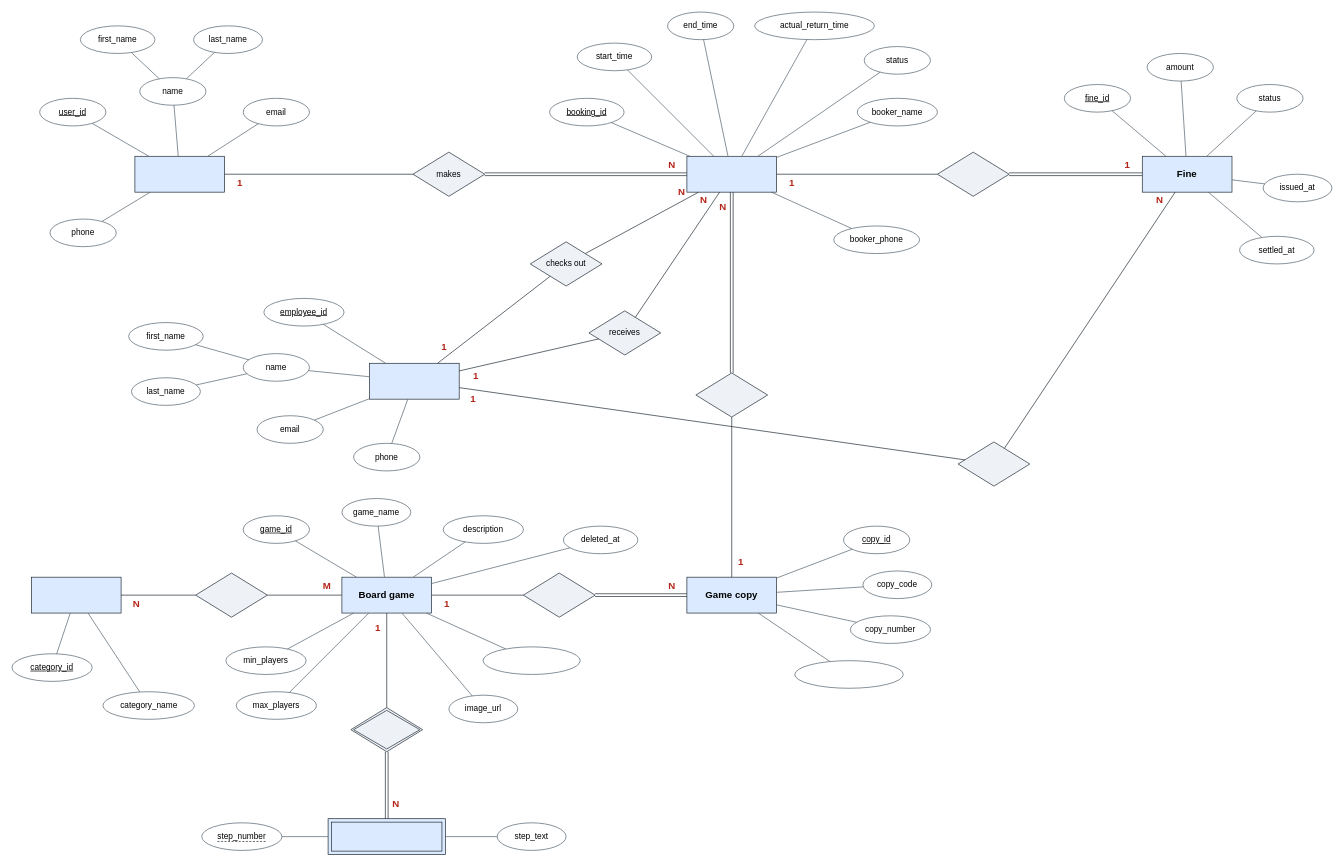
This 1344x867 diagram has some shape labels left out. The centre of each missing label's shape, as x and y in pixels:
"belongs to" belongs at point (231, 594).
"Booking" belongs at point (731, 174).
"Category" belongs at point (76, 594).
"condition_status" belongs at point (848, 674).
"describes" belongs at point (386, 729).
"Employee" belongs at point (414, 381).
"has" belongs at point (559, 594).
"How to play step" belongs at point (386, 836).
"incurs" belongs at point (973, 173).
"play_time_mins" belongs at point (531, 660).
"reserves" belongs at point (731, 394).
"settles" belongs at point (993, 463).
"Users" belongs at point (179, 174).
